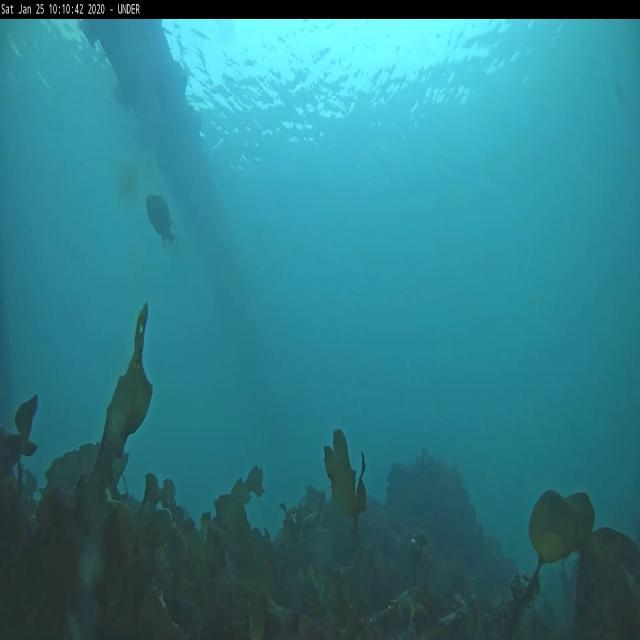fish: (144, 191, 177, 245)
